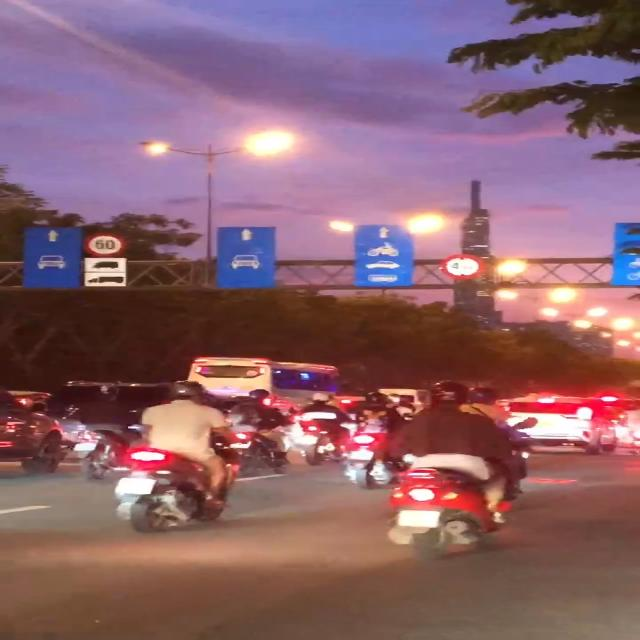Bien bao han che chieu cao: (433, 251, 487, 281)
Bien bao toc do toi da cho phep: (81, 228, 130, 258)
